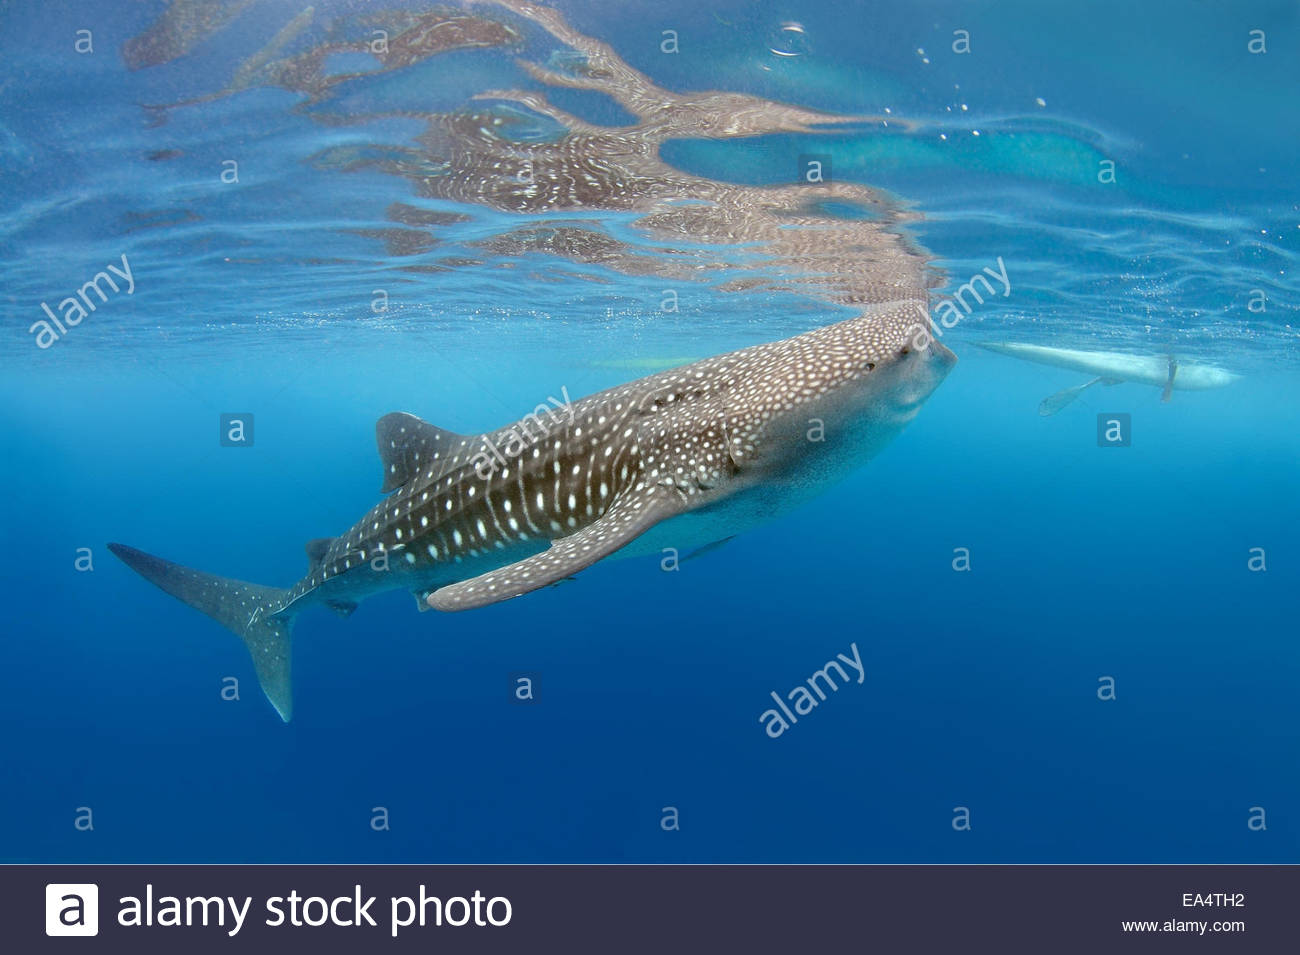Rhincodon_typusw: (89, 292, 967, 737)
